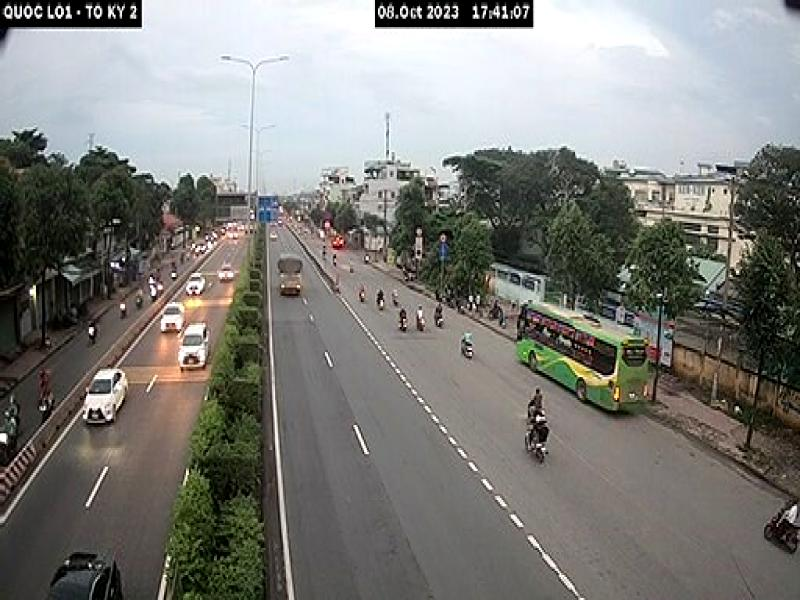bus: (516, 298, 649, 413)
car: (44, 551, 124, 600), (80, 366, 130, 425), (178, 324, 209, 372), (160, 302, 184, 333), (184, 270, 206, 297)
truck: (279, 256, 303, 296)
